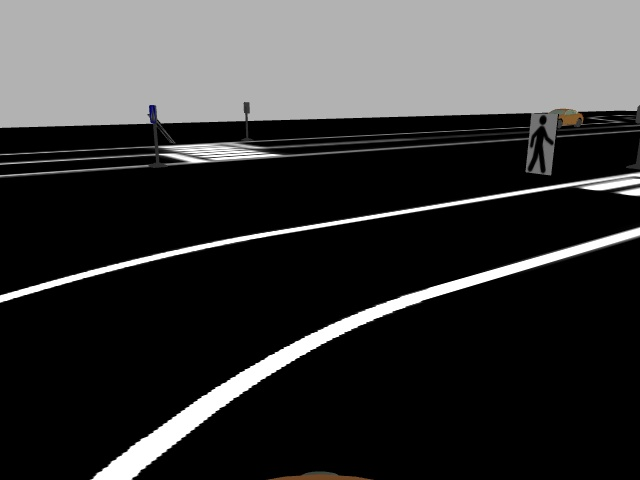pedestrian: (525, 110, 558, 174)
